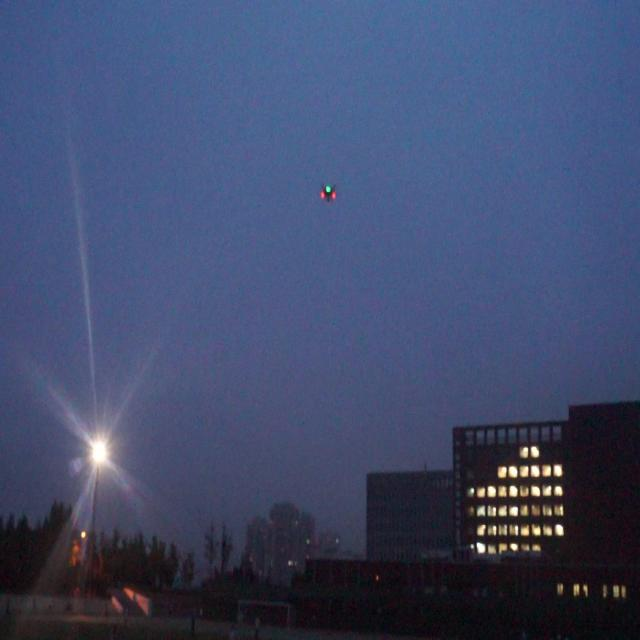drone: (315, 177, 339, 206)
